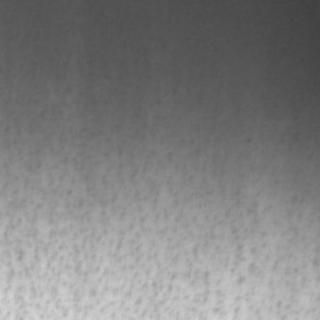pitted_surface: (6, 88, 310, 308)
